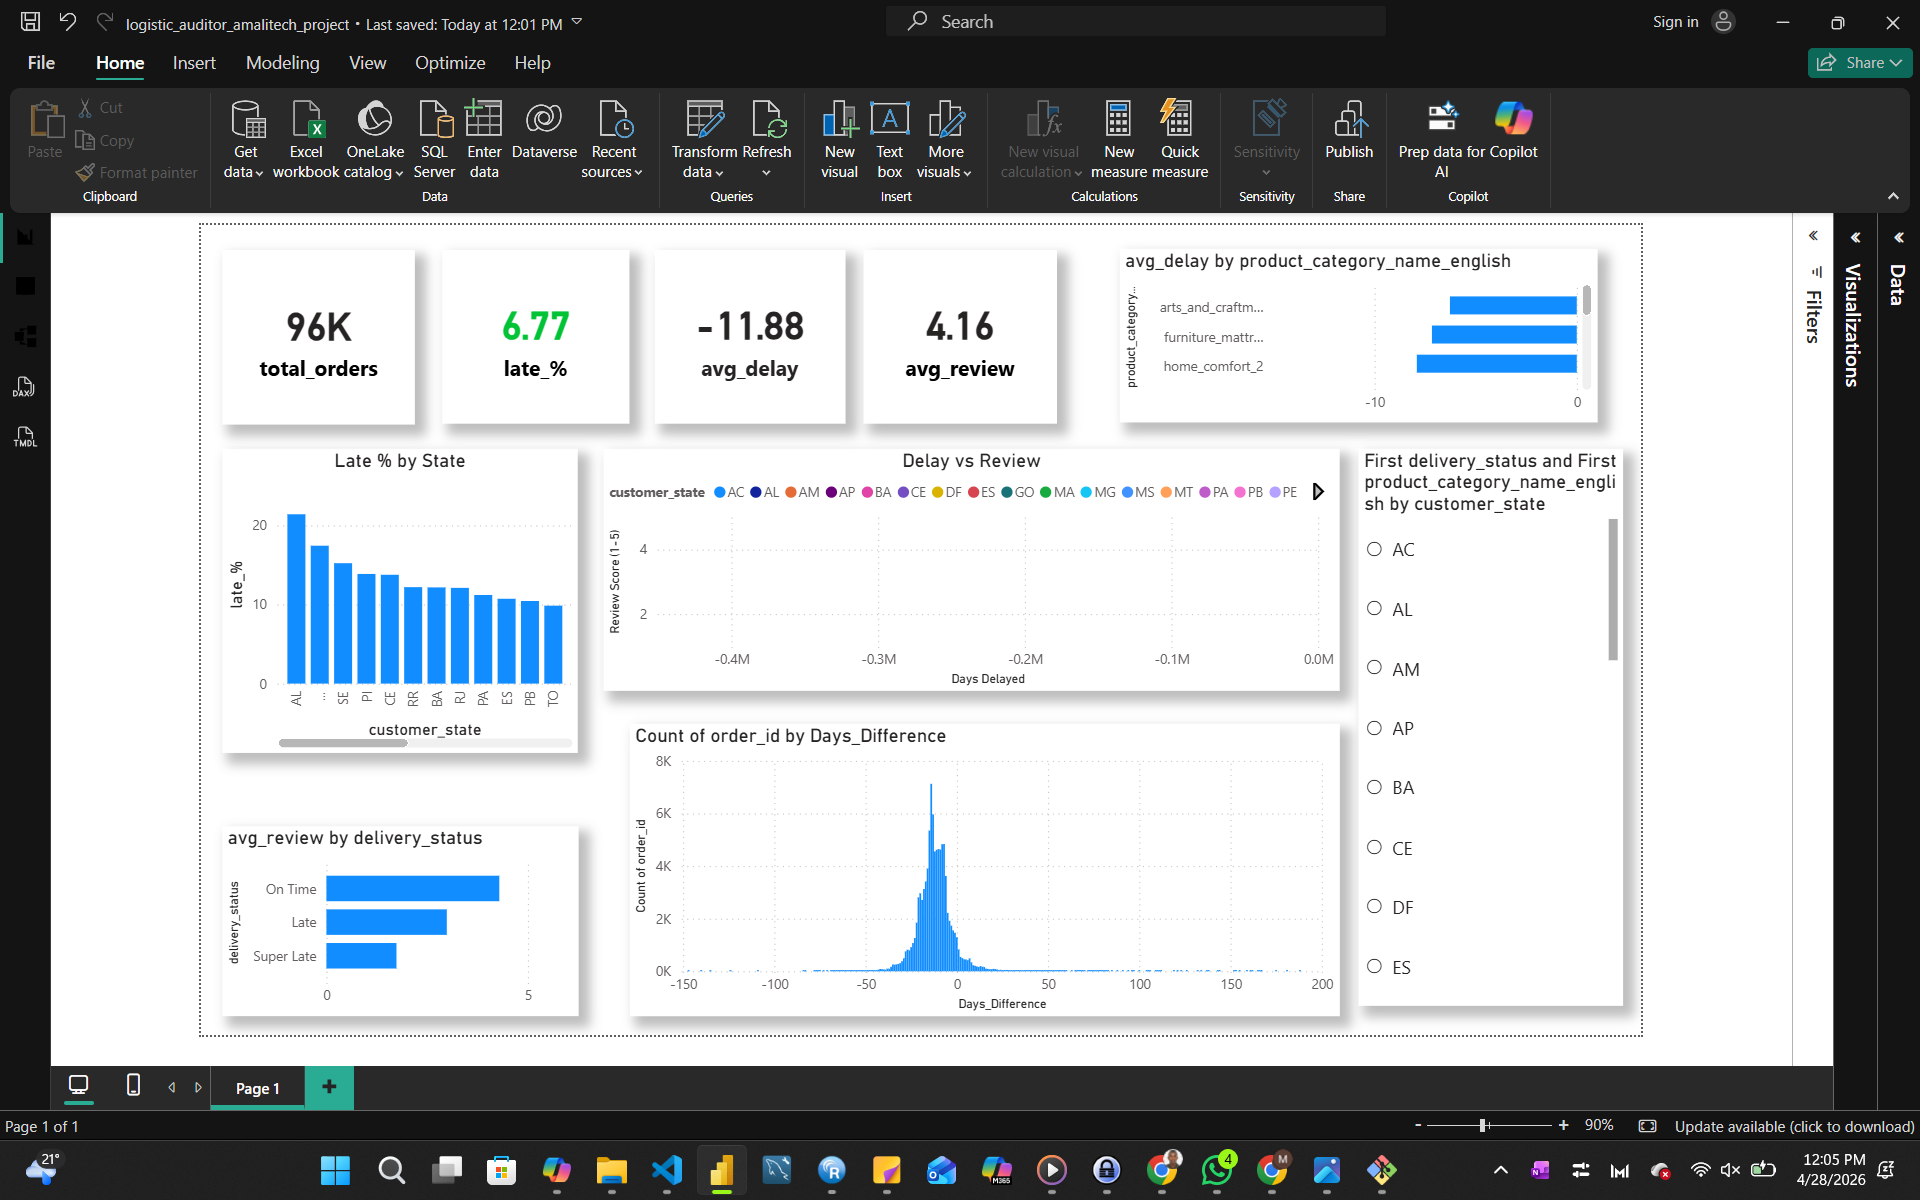

The page's visual inventory and layout, read from the dashboard file:
{"tool":"powerbi","page":{"name":"Page 1","canvas":[1280,720],"ordinal":0},"visuals":[{"type":"card","fields":{"Values":["final_dataset.total_orders"]},"box":[19.2,22,171.5,155.1],"z":0},{"type":"card","fields":{"Values":["final_dataset.late_%"]},"box":[214.9,22.1,166.3,154.5],"z":1000},{"type":"card","fields":{"Values":["final_dataset.avg_delay"]},"box":[403.2,22.1,169.2,154.5],"z":2000},{"type":"card","fields":{"Values":["final_dataset.avg_review"]},"box":[588.6,22.1,172.2,154.5],"z":3000},{"type":"clusteredColumnChart","title":"Late % by State","fields":{"Category":["final_dataset.customer_state"],"Y":["final_dataset.late_%"]},"box":[19.1,198.7,316.4,270.8],"z":4000},{"type":"scatterChart","title":"Delay vs Review","fields":{"X":["Sum(final_dataset.Days_Difference)"],"Y":["Sum(final_dataset.review_score)"],"Series":["final_dataset.customer_state"]},"box":[357.8,198.9,654.4,215.6],"z":5000},{"type":"clusteredBarChart","fields":{"Category":["final_dataset.delivery_status"],"Y":["final_dataset.avg_review"]},"box":[18.9,534.4,316.7,168.9],"z":6000},{"type":"columnChart","fields":{"Category":["final_dataset.Days_Difference"],"Y":["CountNonNull(final_dataset.order_id)"]},"box":[381.1,443.3,631.1,260],"z":7000},{"type":"listSlicer","fields":{"Values":["final_dataset.customer_state"]},"box":[1028.9,198.9,235.6,495.6],"z":8000},{"type":"clusteredBarChart","fields":{"Category":["final_dataset.product_category_name_english"],"Y":["final_dataset.avg_delay"]},"box":[816.7,21.1,424.4,154.4],"z":9000}]}

Visuals, with their boxes in screenshot pixels (x1, y1, x2, y2):
card - final_dataset.total_orders: <region>47, 206, 292, 428</region>
card - final_dataset.late_%: <region>327, 207, 564, 427</region>
card - final_dataset.avg_delay: <region>595, 207, 837, 427</region>
card - final_dataset.avg_review: <region>860, 207, 1106, 427</region>
"Late % by State" clusteredColumnChart: <region>47, 459, 499, 845</region>
"Delay vs Review" scatterChart: <region>531, 459, 1464, 766</region>
clusteredBarChart - final_dataset.delivery_status x final_dataset.avg_review: <region>47, 937, 499, 1178</region>
columnChart - final_dataset.Days_Difference x CountNonNull(final_dataset.order_id): <region>564, 808, 1464, 1178</region>
listSlicer - final_dataset.customer_state: <region>1488, 459, 1824, 1166</region>
clusteredBarChart - final_dataset.product_category_name_english x final_dataset.avg_delay: <region>1185, 205, 1791, 425</region>
